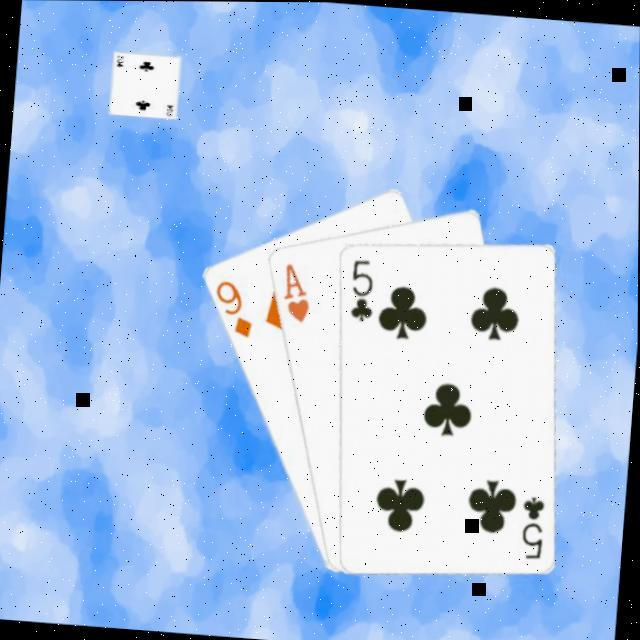5C: (343, 253, 378, 323), (515, 488, 548, 560)
9D: (207, 274, 257, 339)
AH: (277, 258, 314, 324)
